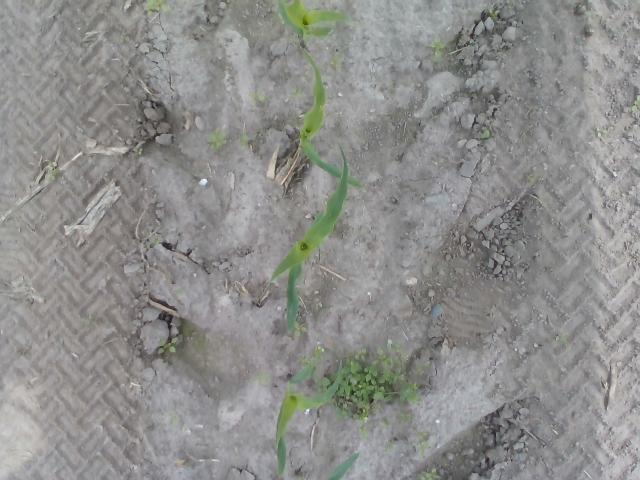Maize: (272, 143, 350, 341), (296, 44, 368, 194), (274, 353, 342, 480), (272, 0, 353, 42), (323, 452, 360, 480)
Weeds: (312, 344, 428, 438), (430, 36, 455, 61), (142, 0, 174, 16), (207, 126, 226, 150), (158, 337, 177, 355), (416, 468, 442, 480), (416, 439, 432, 458), (383, 440, 398, 456), (252, 91, 272, 103), (330, 54, 345, 70), (288, 85, 306, 98), (595, 122, 608, 138), (239, 131, 249, 150), (478, 128, 492, 141), (631, 94, 640, 113), (488, 6, 501, 19), (254, 371, 269, 381), (295, 322, 306, 334), (46, 169, 56, 180), (132, 147, 143, 155), (151, 238, 162, 246), (300, 356, 308, 366)
